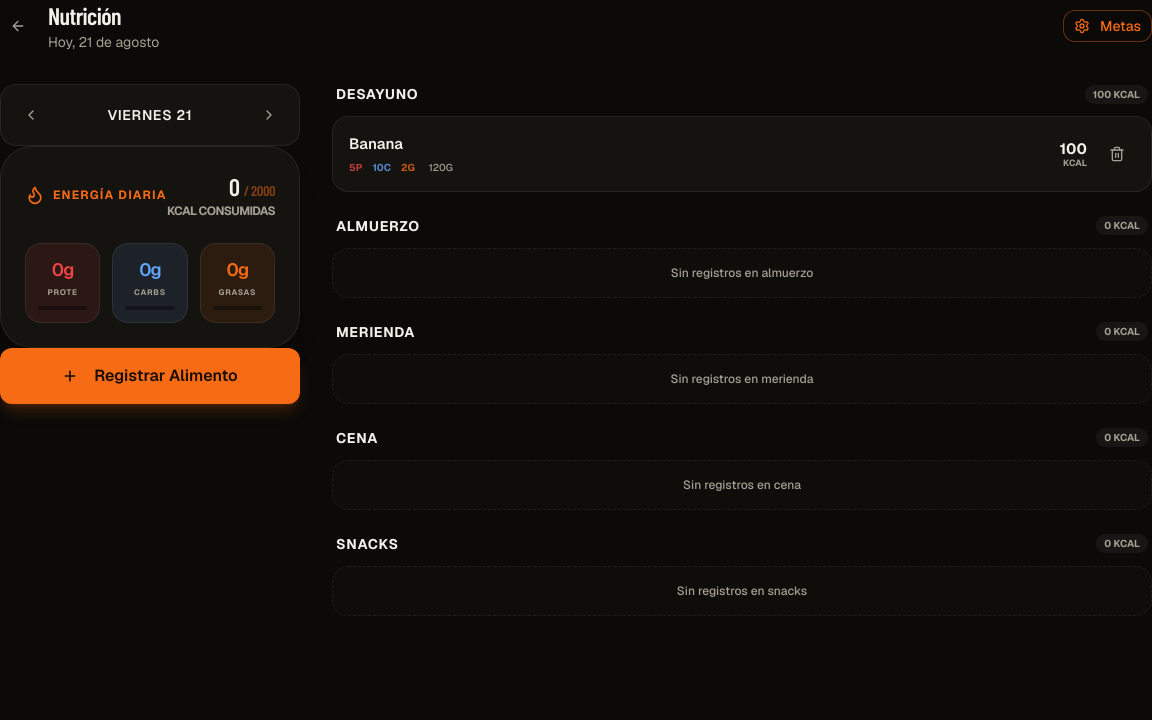
Test: nutrition diary — deleting an entry › asks before deleting instead of deleting on the first tap
Click the button named "Eliminar" at [1117, 154], box [1099,136,1135,172]
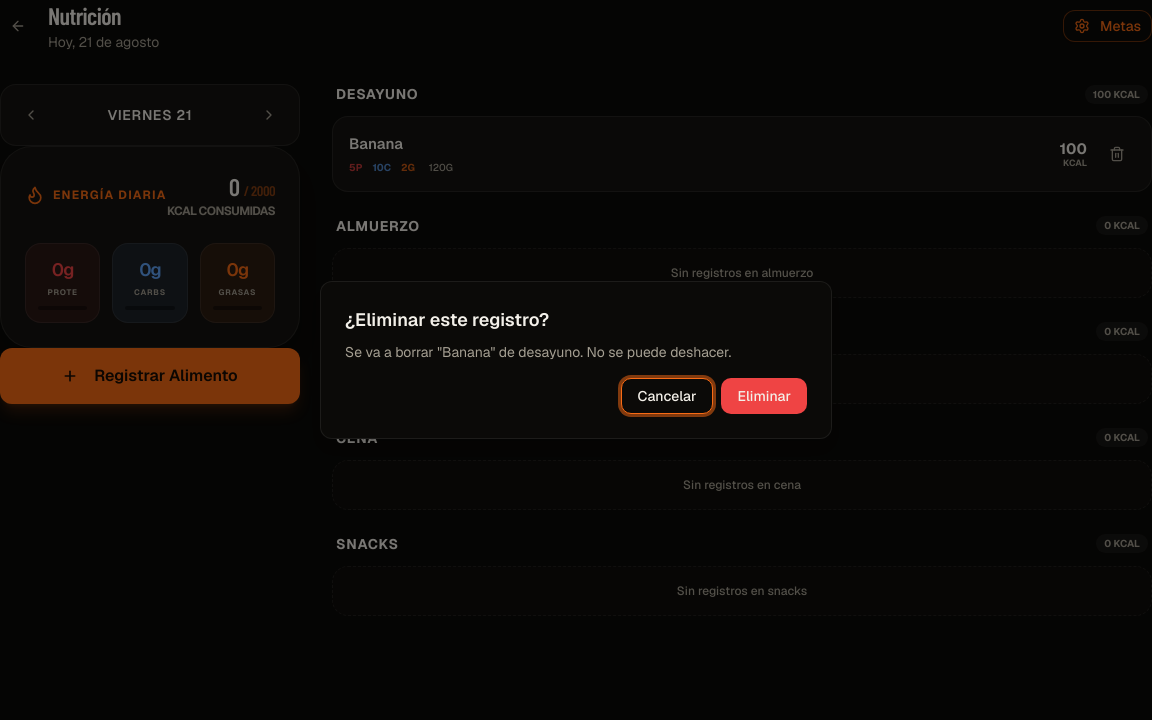
Now the heading "¿Eliminar este registro?" is shown, box [345,308,549,331]
